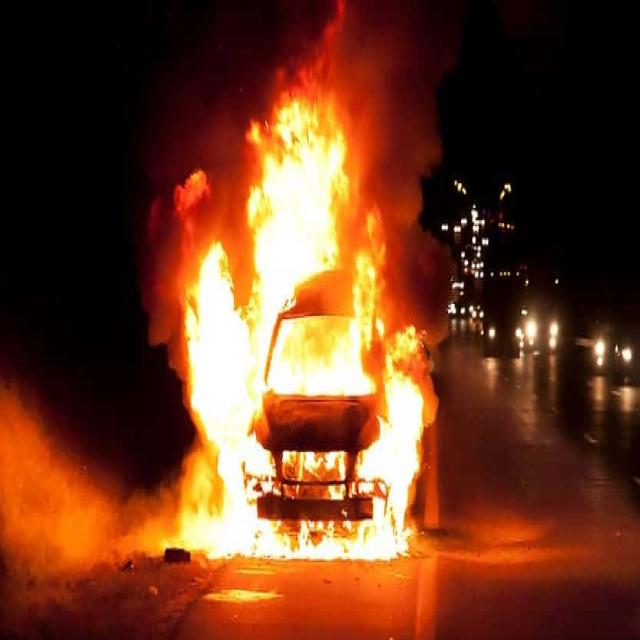fire: (186, 243, 269, 559), (248, 94, 348, 306), (269, 309, 375, 395), (386, 375, 423, 554), (269, 517, 408, 559), (353, 207, 385, 313), (377, 318, 415, 374), (176, 170, 208, 209)
